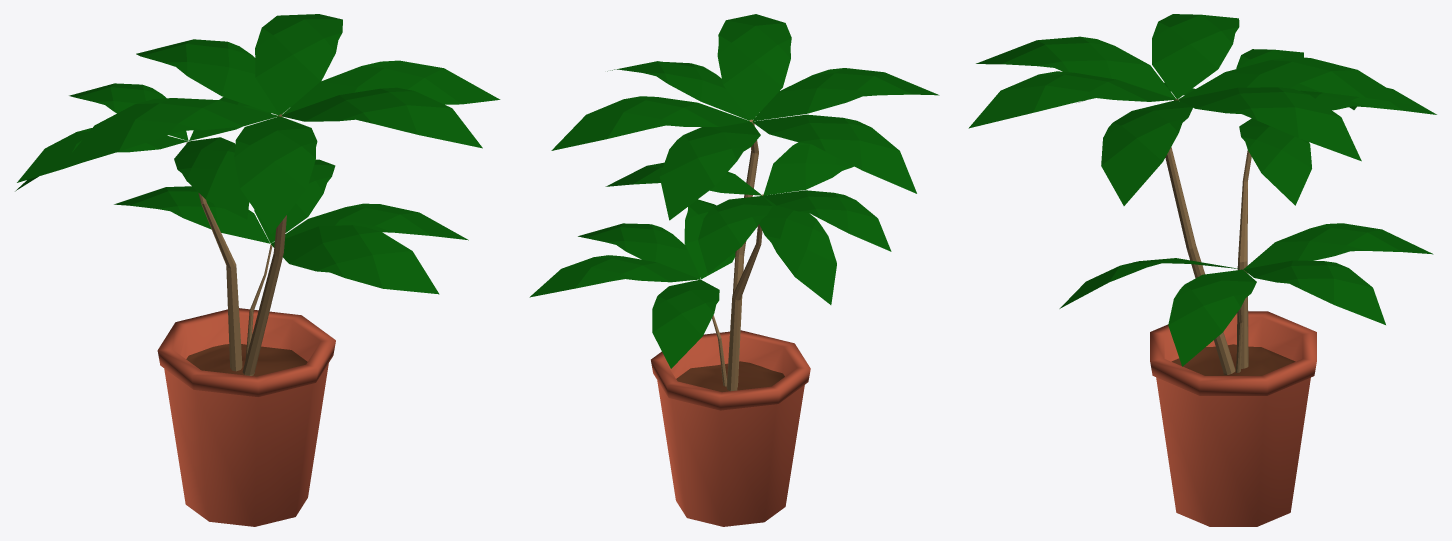
Rendered from herbs.fbx.
3 renders of one model, left to right at view 1: azimuth 30°, elevation 25°; view 2: azimuth 150°, elevation 25°; view 3: azimuth 270°, elevation 25°, orthographic. The views are drawn at different scales.
Visible parts, largest first — view 1: leaf.003; view 2: leaf.003; view 3: leaf.003.
Part boxes in pixels (box(x1,y1,x2,y2)): leaf.003: box(15, 14, 500, 526); leaf.003: box(529, 14, 939, 526); leaf.003: box(968, 14, 1436, 526).
Bounding box in the file's own units: 51.37 × 54.48 × 51.55.
